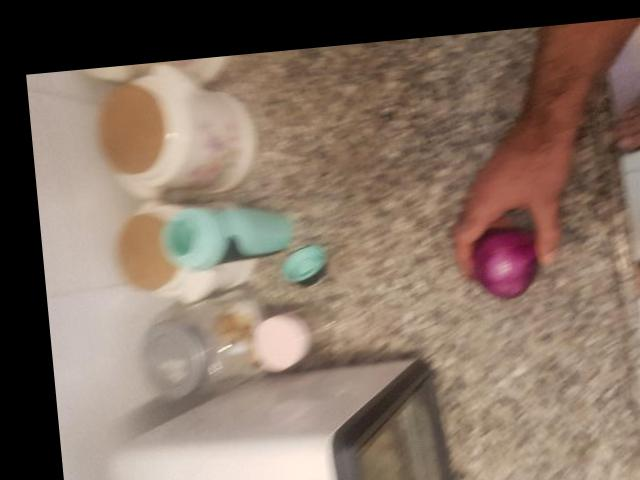onion: (463, 201, 571, 304)
